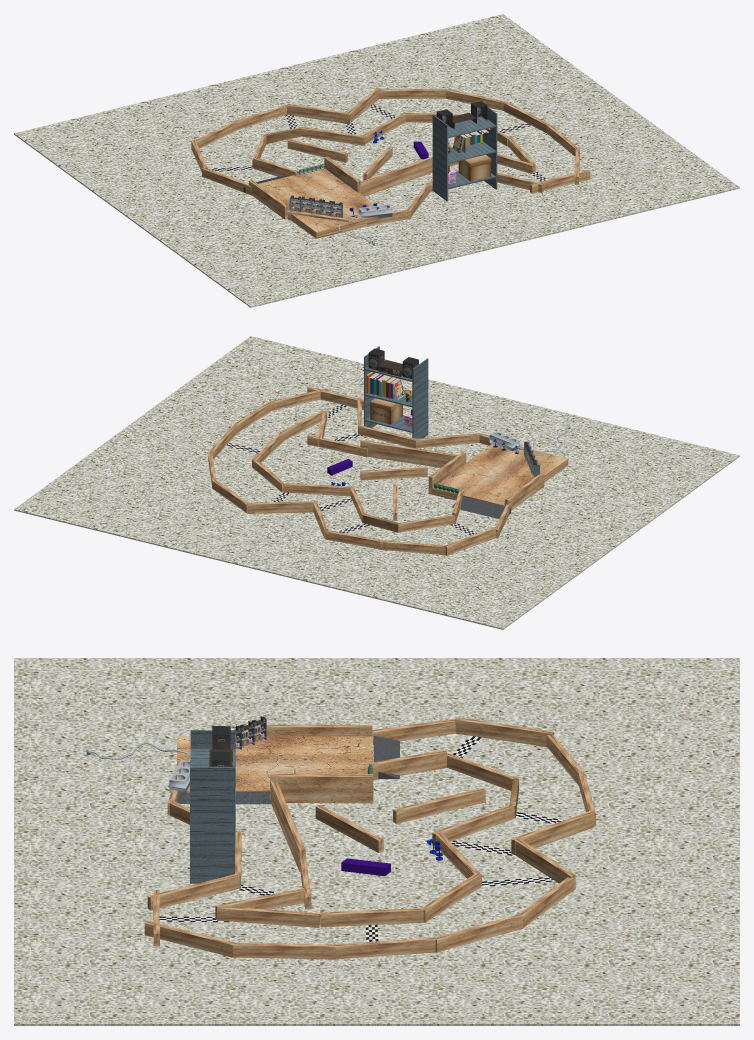
File: CircuitoBasico03PtosControl.DAE
3 views of the same model, one above another, from view 1: azimuth 30°, elevation 25°; view 2: azimuth 150°, elevation 25°; view 3: azimuth 270°, elevation 25° (orthographic). The views are drawn at different scales.
Parts seen in each view (by area): view 1: Box_Suelo, Objeto_Estanteria002, Box_Lateral_005, Box_Lateral_028, Box_Lateral_018, Box_Lateral_021, Box_Lateral_017, Box_Lateral_032, Box_Lateral_02, Box_Lateral_016, Box_Lateral_034, Box_Lateral_019 (+5 smaller); view 2: Box_Suelo, Objeto_Estanteria002, Box_Lateral_005, Box_Lateral_028, Box_Lateral_004, Box_Lateral_029, Box_Lateral_022, Box_Lateral_009, Box_Lateral_035, Mesh_Rampa01, Box_Lateral_019, Box_Lateral_010 (+8 smaller); view 3: Box_Suelo, Objeto_Estanteria002, Box_Lateral_005, Box_Lateral_030, Box_Lateral_01, Box_Lateral_014, Box_Lateral_024, Box_Lateral_025, Box_Lateral_015, Box_Lateral_032, Box_Lateral_016, Box_Lateral_011 (+19 smaller).
Part boxes in pixels (<box>): Box_Suelo: <box>14,14,739,307</box>; Objeto_Estanteria002: <box>432,101,497,201</box>; Box_Lateral_005: <box>258,168,373,238</box>; Box_Lateral_028: <box>361,156,432,196</box>; Box_Lateral_018: <box>286,103,351,124</box>; Box_Lateral_021: <box>301,127,365,145</box>; Box_Lateral_017: <box>379,89,445,98</box>; Box_Lateral_032: <box>287,139,347,162</box>; Box_Lateral_02: <box>249,179,288,219</box>; Box_Lateral_016: <box>445,89,506,110</box>; Box_Lateral_034: <box>530,170,590,193</box>; Box_Lateral_019: <box>232,105,286,129</box>; Box_Suelo: <box>14,336,739,629</box>; Objeto_Estanteria002: <box>364,346,428,438</box>; Box_Lateral_005: <box>432,443,568,506</box>; Box_Lateral_028: <box>360,440,458,467</box>; Box_Lateral_004: <box>247,501,314,513</box>; Box_Lateral_029: <box>360,467,427,480</box>; Box_Lateral_022: <box>284,483,350,496</box>; Box_Lateral_009: <box>415,433,479,448</box>; Box_Lateral_035: <box>380,540,445,555</box>; Mesh_Rampa01: <box>452,496,510,518</box>; Box_Lateral_019: <box>325,530,388,550</box>; Box_Lateral_010: <box>358,425,416,448</box>; Box_Suelo: <box>14,658,739,1025</box>; Objeto_Estanteria002: <box>190,726,235,883</box>; Box_Lateral_005: <box>177,736,372,792</box>; Box_Lateral_030: <box>270,774,373,803</box>; Box_Lateral_01: <box>454,717,554,746</box>; Box_Lateral_014: <box>233,942,335,959</box>; Box_Lateral_024: <box>320,908,423,927</box>; Box_Lateral_025: <box>217,906,319,927</box>; Box_Lateral_015: <box>333,937,435,959</box>; Box_Lateral_032: <box>393,788,485,823</box>; Box_Lateral_016: <box>435,914,522,952</box>; Box_Lateral_011: <box>147,874,239,910</box>.
Size of the model in its own units: 222 by 186 by 49.08.
10 materials, 9 textured.
